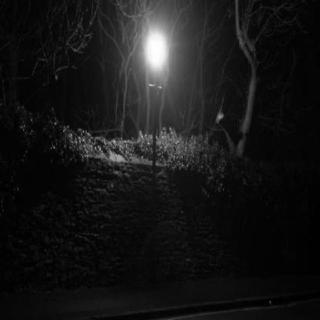other: (143, 30, 169, 70)
